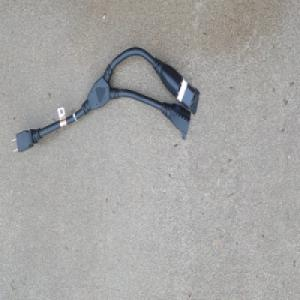Wire: (12, 44, 201, 155)
